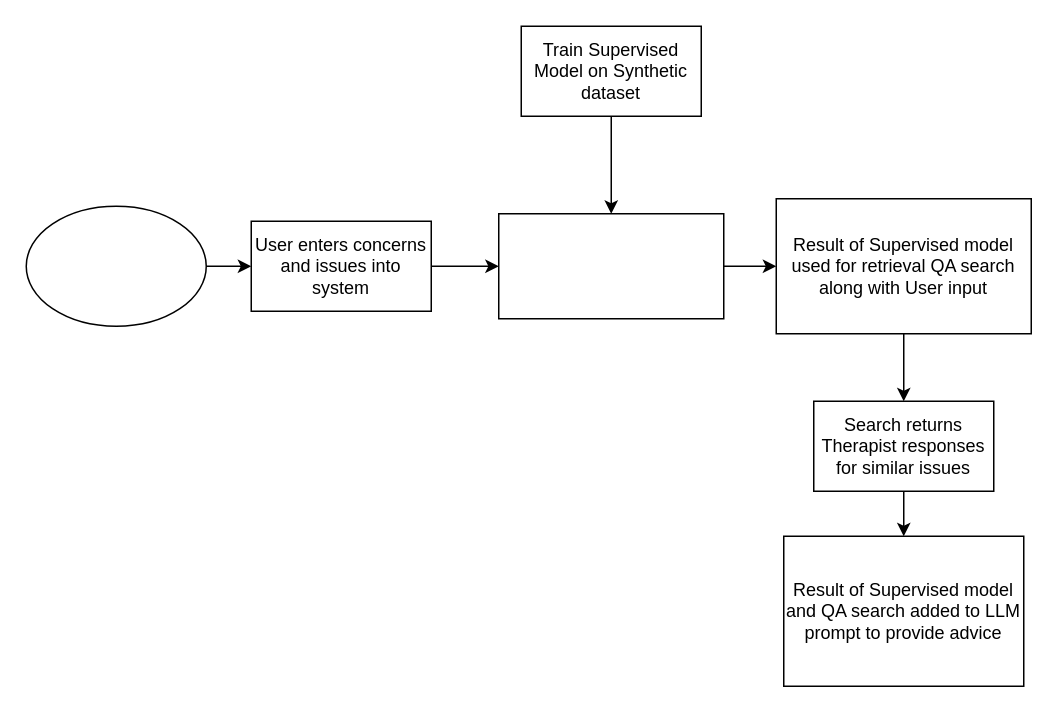
Some shapes in this 1058 by 713 pixel diagram are drawn without their labels. The box of each missing label's shape, as (x1, y1, x2, y2) in pixels:
Start: (25, 205, 206, 326)
Supervised model infers from Users input the CDS present with a confidence: (497, 212, 724, 319)
